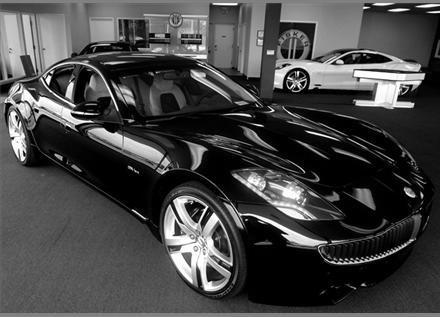car: (2, 50, 436, 311)
